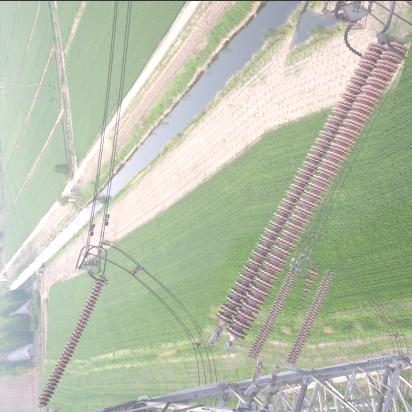insulator: (225, 13, 389, 372), (43, 268, 103, 412), (291, 268, 332, 372)
